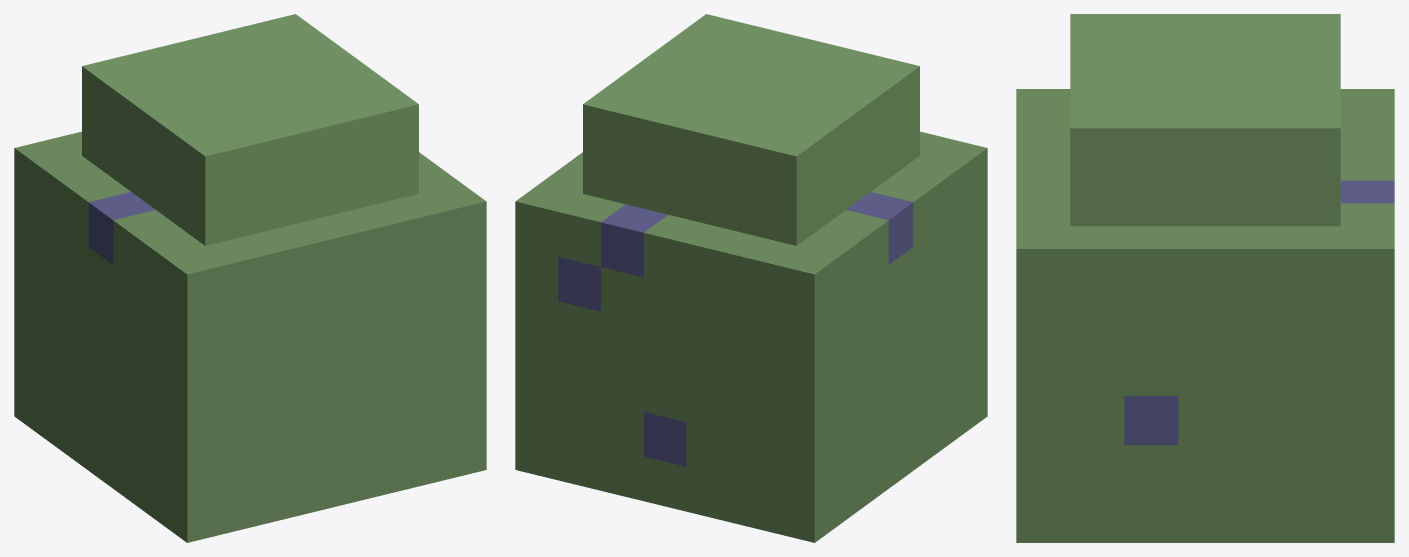
Rendered from arandano_05.glb.
The picture shows the model from 3 angles, left to right: view 1: azimuth 30°, elevation 25°; view 2: azimuth 150°, elevation 25°; view 3: azimuth 270°, elevation 25°; orthographic projection. The views are drawn at different scales.
Visible parts, largest first — view 1: arandano_05; view 2: arandano_05; view 3: arandano_05.
Part boxes in pixels (x1=…): arandano_05: x1=14, y1=14, x2=486, y2=542; arandano_05: x1=515, y1=14, x2=987, y2=542; arandano_05: x1=1016, y1=14, x2=1394, y2=542.
Bounding box in the file's own units: 0.7 × 0.8 × 0.7.
